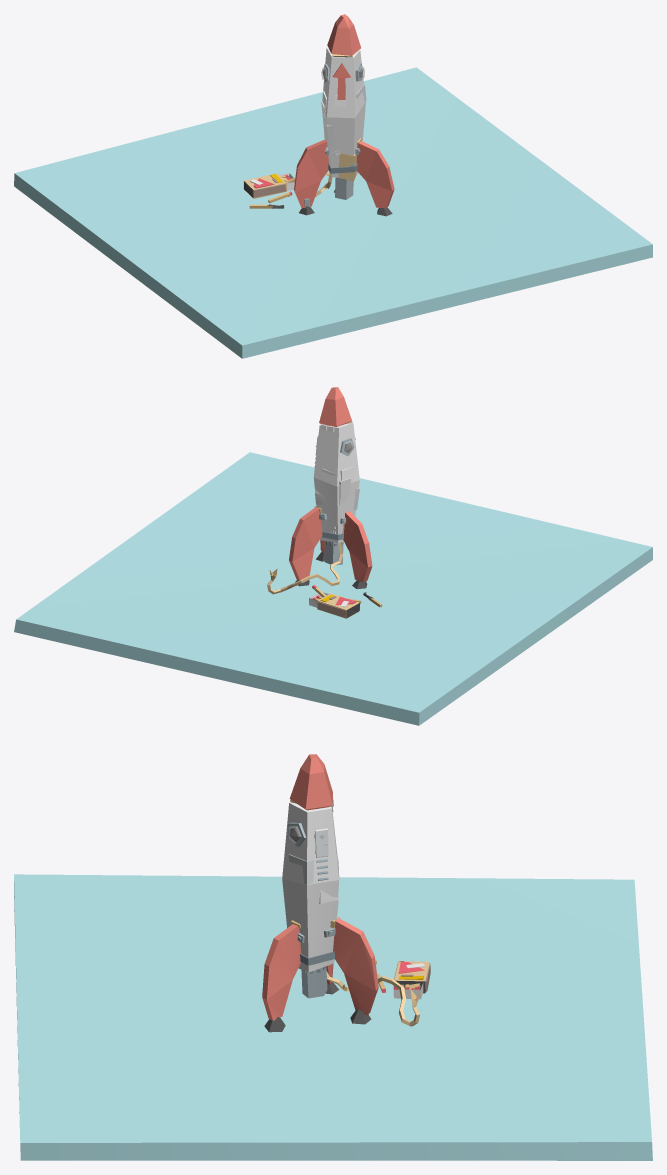
Rendered from rocket.glb.
3 renders of one model, top to bottom at view 1: azimuth 30°, elevation 25°; view 2: azimuth 150°, elevation 25°; view 3: azimuth 270°, elevation 25°, orthographic. The views are drawn at different scales.
Visible parts, largest first — view 1: mesh_592666355_material_3___23907_0, mesh_1823614401_material_21___23907_0, mesh_348370959_material_8___23907_0, mesh_582586018_material_8___23907_0, mesh_1737653074_material_8___23907_0; view 2: mesh_592666355_material_3___23907_0, mesh_1823614401_material_21___23907_0, mesh_845660779_material_8___23907_0, mesh_582586018_material_8___23907_0, mesh_1737653074_material_8___23907_0; view 3: mesh_592666355_material_3___23907_0, mesh_1823614401_material_21___23907_0, mesh_845660779_material_8___23907_0, mesh_348370959_material_8___23907_0, mesh_1737653074_material_8___23907_0, mesh_485851533_material_16___23907_0.
Part boxes in pixels (x1,y1,x2,y2): mesh_592666355_material_3___23907_0: (14,67,652,358); mesh_1823614401_material_21___23907_0: (323,47,365,177); mesh_348370959_material_8___23907_0: (356,141,394,208); mesh_582586018_material_8___23907_0: (294,139,328,208); mesh_1737653074_material_8___23907_0: (327,14,360,55); mesh_592666355_material_3___23907_0: (14,452,652,725); mesh_1823614401_material_21___23907_0: (313,422,359,542); mesh_845660779_material_8___23907_0: (289,507,322,580); mesh_582586018_material_8___23907_0: (343,511,372,582); mesh_1737653074_material_8___23907_0: (319,387,351,426); mesh_592666355_material_3___23907_0: (14,874,652,1160); mesh_1823614401_material_21___23907_0: (282,802,339,972); mesh_845660779_material_8___23907_0: (333,918,378,1015); mesh_348370959_material_8___23907_0: (262,924,301,1020); mesh_1737653074_material_8___23907_0: (289,754,332,810); mesh_485851533_material_16___23907_0: (301,966,327,998).
Size of the model in its own units: 32.65 by 15.67 by 32.72.
